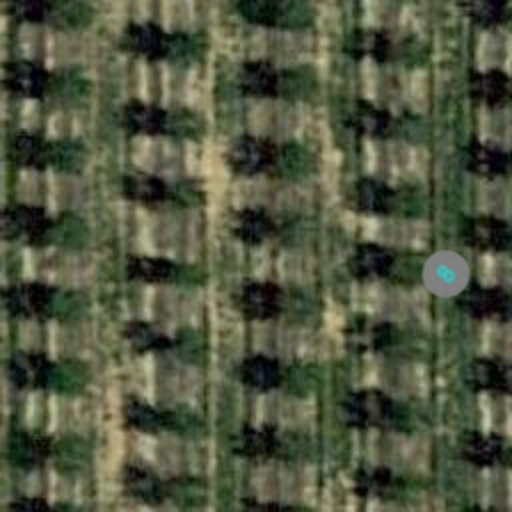circle: (414, 242, 478, 306)
